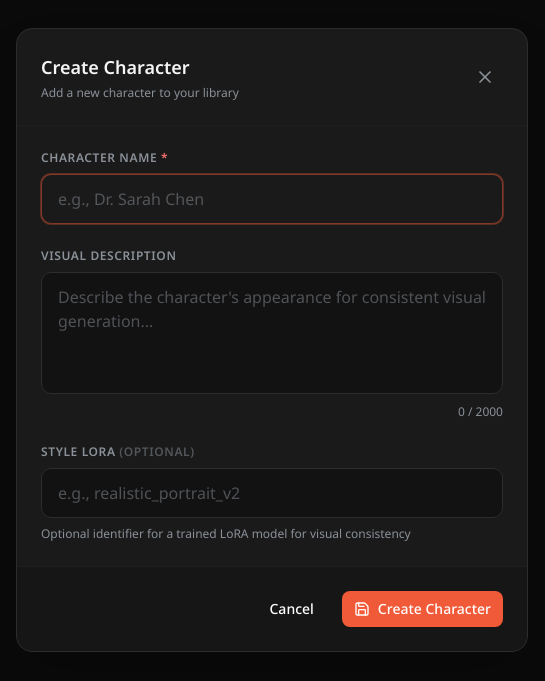
Test: CharacterModal › Create Mode › shows validation error when saving without name
The image size is (545, 681).
Click the button "Create Character".
click(422, 609)  # box x1=342 y1=591 x2=503 y2=627
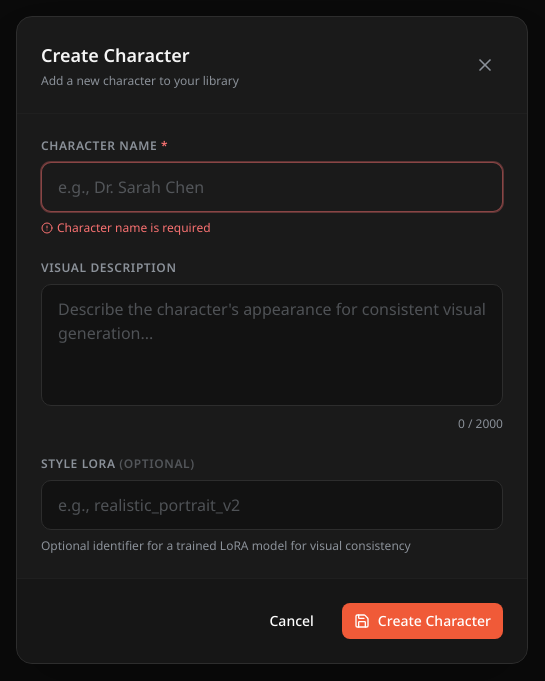
expect the text "Character name is required" is shown: met, box x1=41 y1=219 x2=211 y2=236
